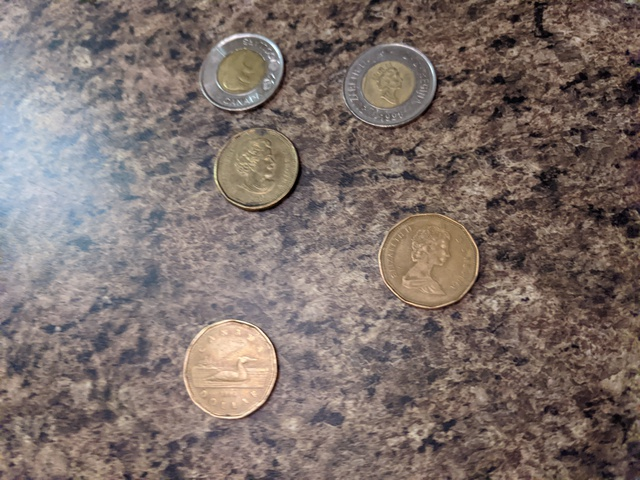loonie: (376, 204, 491, 309), (180, 316, 284, 426), (209, 129, 314, 216)
twonie: (345, 34, 445, 127), (194, 27, 293, 113)
